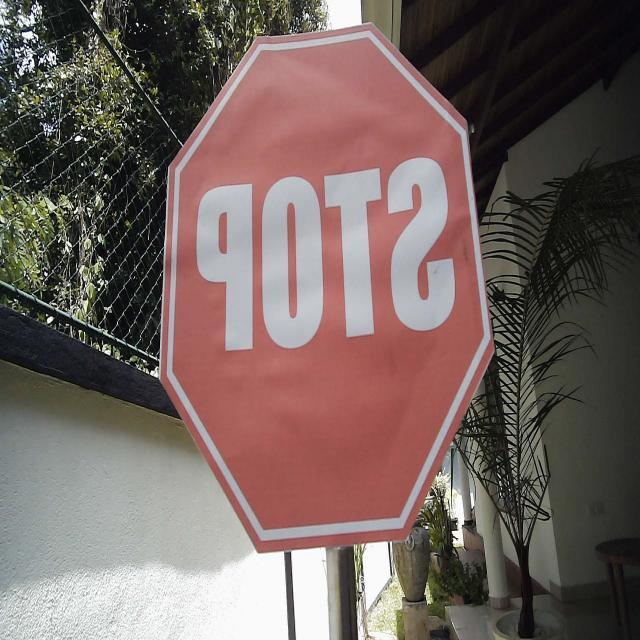stop: (157, 18, 497, 556)
